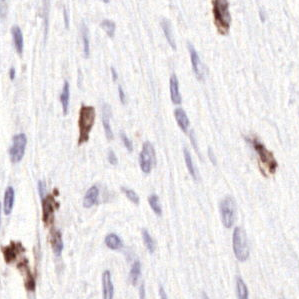Lymphocyte: (76, 104, 95, 146)
